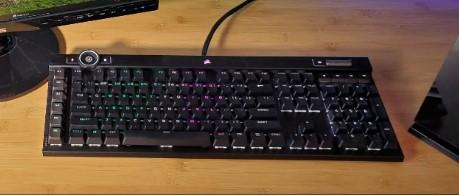Keyboard: (41, 50, 405, 160)
